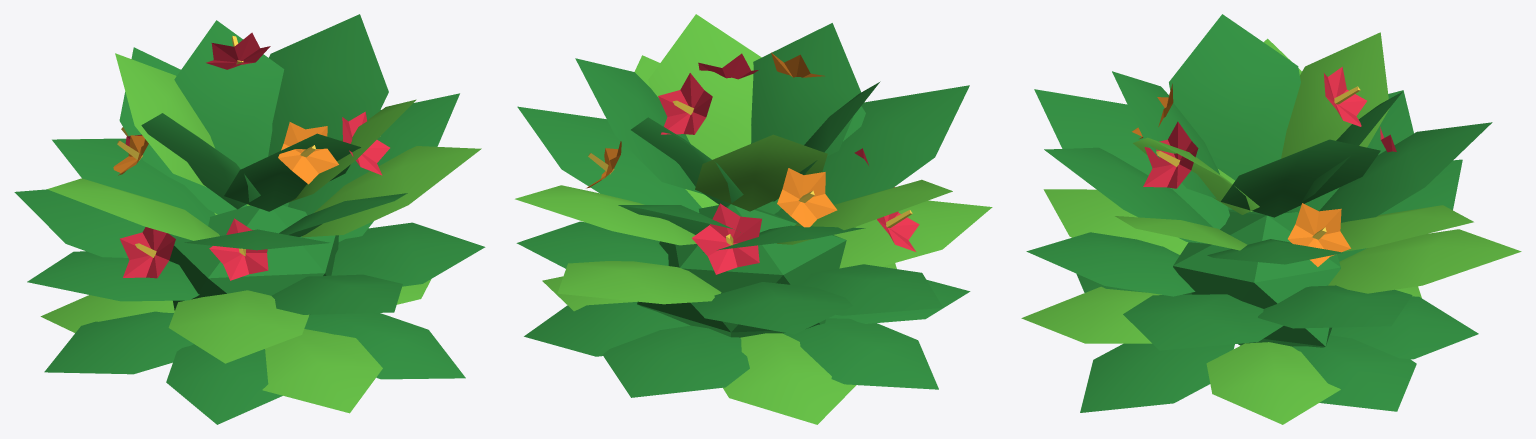
The model's file is tropical_bush.glb.
3 views of the same model, side by side, from view 1: azimuth 30°, elevation 25°; view 2: azimuth 150°, elevation 25°; view 3: azimuth 270°, elevation 25° (orthographic). The views are drawn at different scales.
Visible parts, largest first — view 1: tropical_bush; view 2: tropical_bush; view 3: tropical_bush.
Part boxes in pixels (x1,y1,x2,y2): tropical_bush: (14,14,485,424); tropical_bush: (515,14,992,424); tropical_bush: (1021,14,1521,424).
Size of the model in its own units: 1.69 by 1.1 by 1.67.
